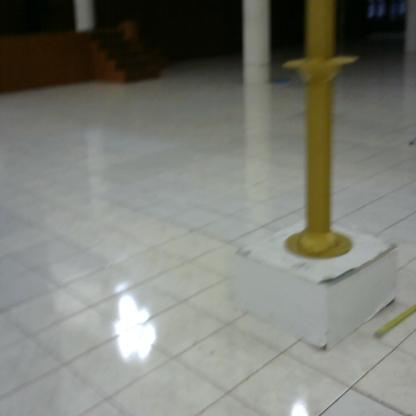pole: (274, 1, 371, 271)
